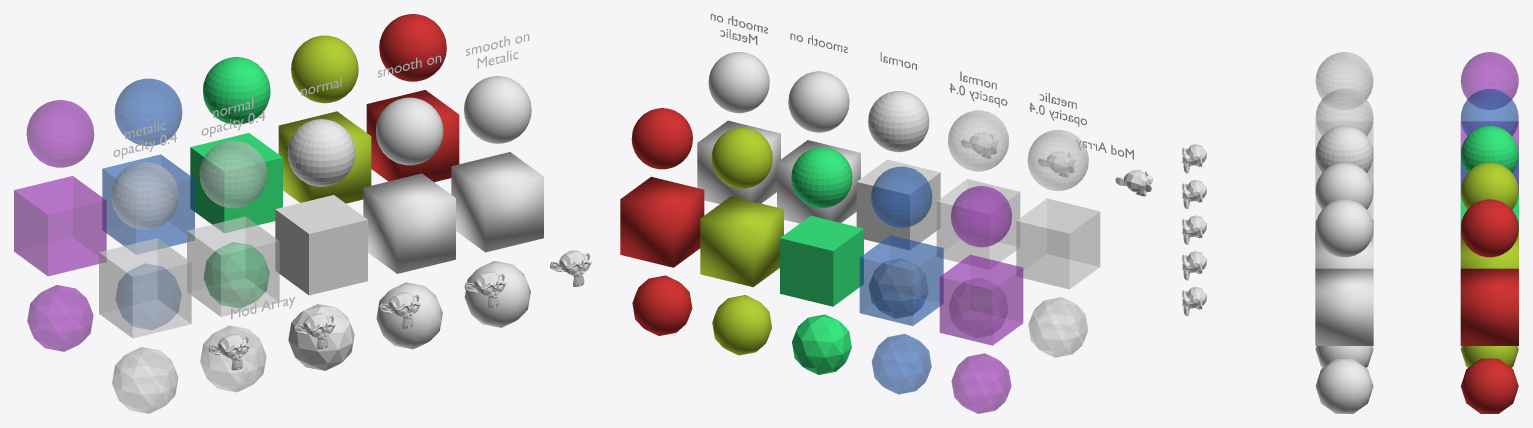
The model's file is samples.fbx.
3 views of the same model, side by side, from view 1: azimuth 30°, elevation 25°; view 2: azimuth 150°, elevation 25°; view 3: azimuth 270°, elevation 25° (orthographic). The views are drawn at different scales.
Visible parts, largest first — view 1: Cube, Cube.004, Cube.009, Cube.008, Cube.003, Cube.005, Cube.001, Cube.002, Suzanne, Sphere, Sphere.001, Sphere.002 (+17 smaller); view 2: Cube.004, Cube.008, Cube.009, Cube.005, Cube.003, Cube, Cube.007, Cube.006, Sphere.001, Sphere.005, Sphere.006, Sphere.007 (+17 smaller); view 3: Cube.002, Cube.007, Sphere.002, Sphere.007, Sphere.004, Sphere.009, Suzanne, Icosphere.002, Icosphere.007, Sphere.001, Sphere.006, Sphere.005 (+9 smaller).
Part boxes in pixels (x1,y1,x2,y2): Cube: [275, 195, 367, 295]; Cube.004: [99, 238, 191, 338]; Cube.009: [14, 176, 106, 276]; Cube.008: [102, 154, 194, 254]; Cube.003: [187, 216, 279, 316]; Cube.005: [190, 133, 282, 232]; Cube.001: [363, 173, 455, 273]; Cube.002: [451, 152, 543, 252]; Suzanne: [208, 250, 591, 370]; Sphere: [287, 119, 355, 186]; Sphere.001: [376, 97, 443, 165]; Sphere.002: [464, 76, 531, 143]; Cube.004: [1016, 198, 1100, 289]; Cube.008: [859, 235, 943, 325]; Cube.009: [939, 254, 1023, 345]; Cube.005: [780, 215, 863, 306]; Cube.003: [936, 179, 1020, 269]; Cube: [856, 159, 940, 250]; Cube.007: [620, 176, 704, 267]; Cube.006: [700, 196, 783, 287]; Sphere.001: [788, 71, 849, 132]; Sphere.005: [791, 147, 852, 208]; Sphere.006: [711, 127, 772, 188]; Sphere.007: [631, 108, 692, 169]; Cube.002: [1315, 268, 1373, 345]; Cube.007: [1460, 268, 1518, 345]; Sphere.002: [1315, 199, 1373, 257]; Sphere.007: [1460, 199, 1518, 257]; Sphere.004: [1315, 52, 1373, 109]; Sphere.009: [1460, 52, 1518, 109]; Suzanne: [1182, 144, 1206, 316]; Icosphere.002: [1315, 358, 1373, 413]; Icosphere.007: [1460, 358, 1518, 413]; Sphere.001: [1315, 162, 1373, 209]; Sphere.006: [1460, 162, 1518, 209]; Sphere.005: [1460, 125, 1518, 172].
Size of the model in its own units: 1416 by 934 by 1159.
